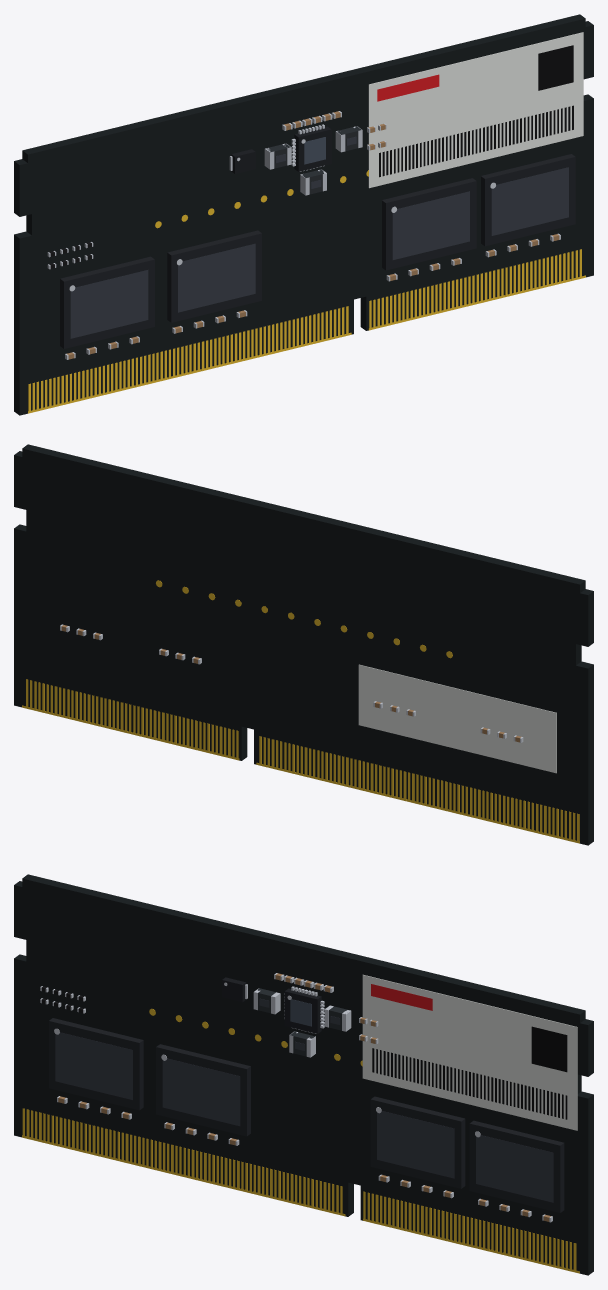
File: DDR5_16GB_SODIMM_LAPTOP.obj
3 views of the same model, one above another, from view 1: azimuth 30°, elevation 25°; view 2: azimuth 150°, elevation 25°; view 3: azimuth 330°, elevation 25° (orthographic).
Bounding box in the file's own units: 69.6 × 30 × 2.79.
